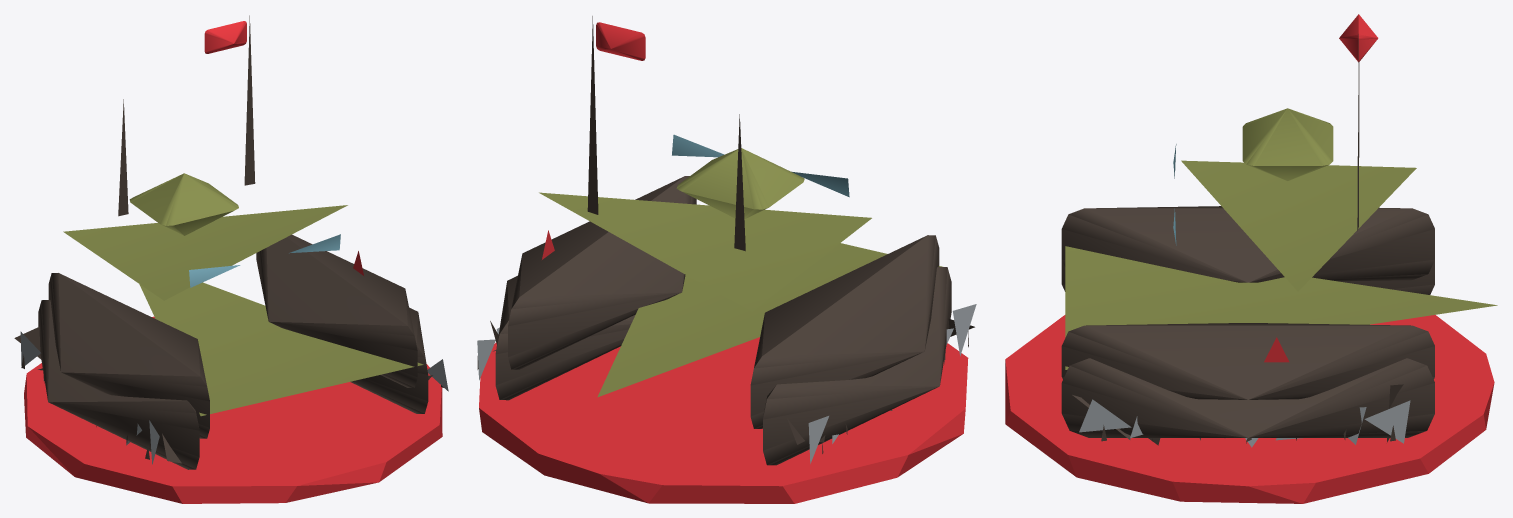
Rendered from soviet_union_commander_lod1.glb.
The picture shows the model from 3 angles, left to right: view 1: azimuth 30°, elevation 25°; view 2: azimuth 150°, elevation 25°; view 3: azimuth 270°, elevation 25°; orthographic projection. The views are drawn at different scales.
Visible parts, largest first — view 1: body_hull, base_pedestal; view 2: body_hull, base_pedestal; view 3: body_hull, base_pedestal.
Boxes of the visible parts, x1,y1,x2,y2 form: body_hull: (14,15,448,469); base_pedestal: (24,316,442,503); body_hull: (477,16,976,465); base_pedestal: (479,337,968,503); body_hull: (1061,14,1497,447); base_pedestal: (1005,315,1494,503).
Size of the model in its own units: 0.7837 by 0.7101 by 0.7815.
